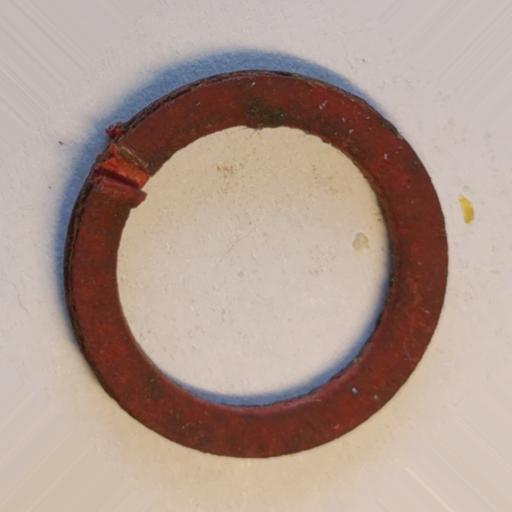defect: (88, 120, 149, 210)
